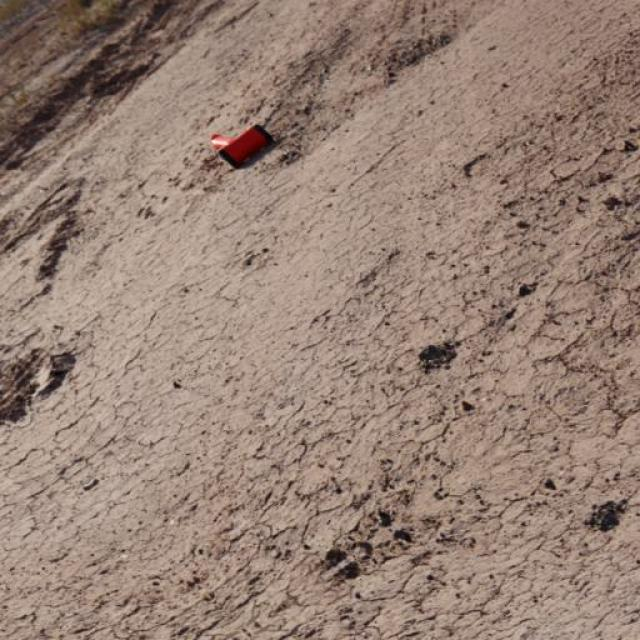mallet: (208, 122, 272, 168)
